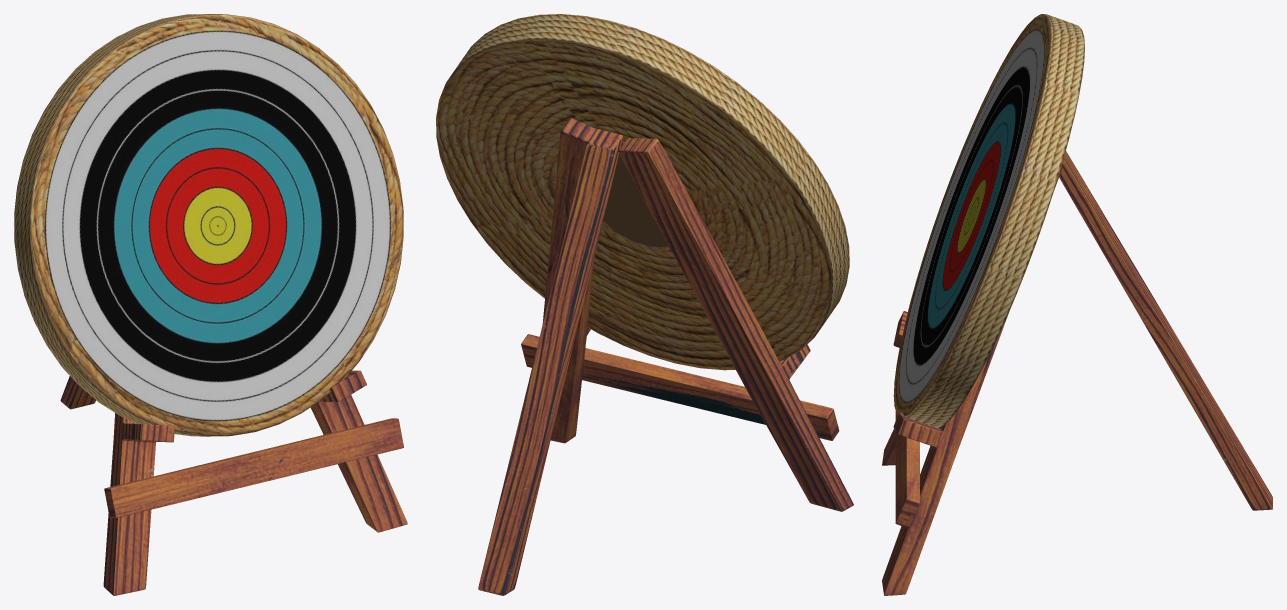
File: target.gltf
The picture shows the model from 3 angles, left to right: view 1: azimuth 30°, elevation 25°; view 2: azimuth 150°, elevation 25°; view 3: azimuth 270°, elevation 25°; orthographic projection. The views are drawn at different scales.
Parts seen in each view (by area): view 1: 10480_archery_target; view 2: 10480_archery_target; view 3: 10480_archery_target.
Boxes of the visible parts, x1,y1,x2,y2 form: 10480_archery_target: (14,14,407,595); 10480_archery_target: (436,14,853,595); 10480_archery_target: (882,14,1272,595).
Size of the model in its own units: 6.57 by 8.25 by 5.98.
Materials: 2 (1 with a texture image).
